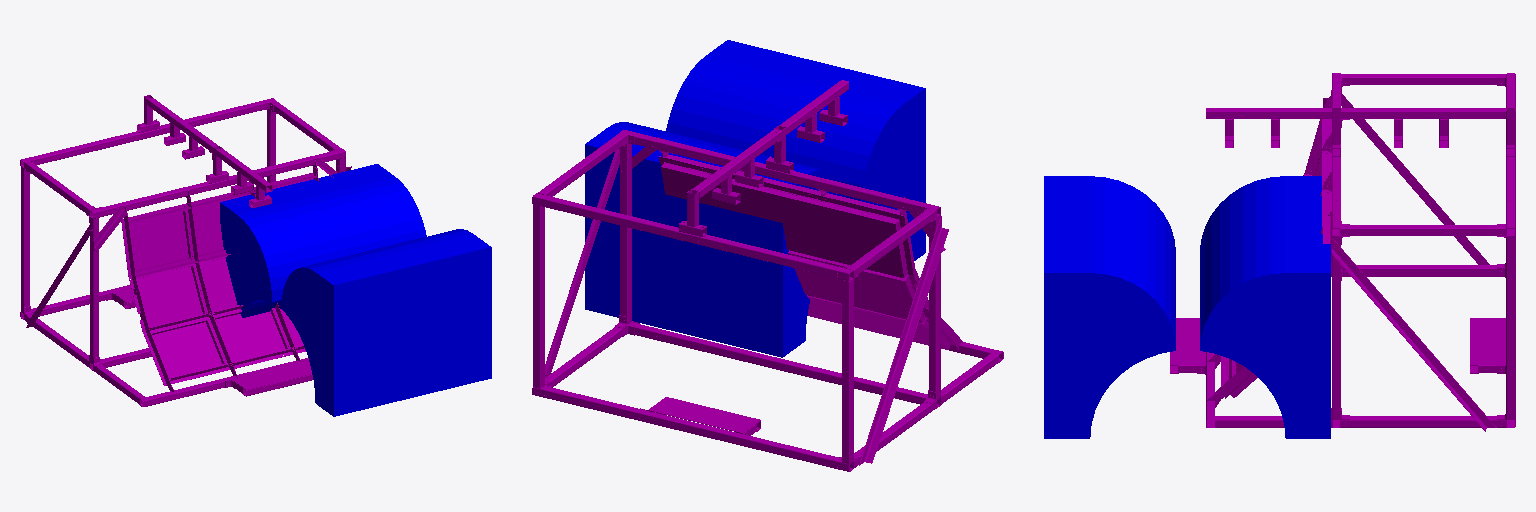
URDF robot description (tubestraight0304):
<?xml version="1.0" encoding="utf-8"?>
<!-- This URDF was automatically created by SolidWorks to URDF Exporter! Originally created by [author] ([email redacted]) 
     Commit Version: 1.6.0-1-g15f4949  Build Version: 1.6.7594.29634
     For more information, please see http://wiki.ros.org/sw_urdf_exporter -->
<robot
  name="tubestraight0304">
  <link
    name="base_link">
    <inertial>
      <origin
        xyz="1.25 -0.00098688 0.62711"
        rpy="0 0 0" />
      <mass
        value="106.93" />
      <inertia
        ixx="78.399"
        ixy="3.0113E-13"
        ixz="-7.3168E-14"
        iyy="69.372"
        iyz="-0.066809"
        izz="120.41" />
    </inertial>
    <visual>
      <origin
        xyz="0 0 0"
        rpy="0 0 0" />
      <geometry>
        <mesh
          filename="package://tubestraight0304/meshes/base_link.STL" />
      </geometry>
      <material
        name="">
        <color
          rgba="0.7 0 0.7 1" />
      </material>
    </visual>
    <collision>
      <origin
        xyz="0 0 0"
        rpy="0 0 0" />
      <geometry>
        <mesh
          filename="package://tubestraight0304/meshes/base_link.STL" />
      </geometry>
    </collision>
  </link>
  <link
    name="Link_wing">
    <inertial>
      <origin
        xyz="1.25 1.7764E-15 0.070408"
        rpy="0 0 0" />
      <mass
        value="14174" />
      <inertia
        ixx="9617.8"
        ixy="1062.1"
        ixz="-4.0963E-12"
        iyy="13416"
        iyz="-4.5475E-13"
        izz="12598" />
    </inertial>
    <visual>
      <origin
        xyz="0 0 0"
        rpy="0 0 0" />
      <geometry>
        <mesh
          filename="package://tubestraight0304/meshes/Link_wing.STL" />
      </geometry>
      <material
        name="">
        <color
          rgba="0 0 1 0.0001" />
      </material>
    </visual>
    <collision>
      <origin
        xyz="0 0 0"
        rpy="0 0 0" />
      <geometry>
        <mesh
          filename="package://tubestraight0304/meshes/Link_wing.STL" />
      </geometry>
    </collision>
  </link>
  <joint
    name="Joint_wing"
    type="continuous">
    <origin
      xyz="0 0 1.0635"
      rpy="0 0 0" />
    <parent
      link="base_link" />
    <child
      link="Link_wing" />
    <axis
      xyz="1 0 0" />
    <limit
      lower="0"
      upper="1E-06"
      effort="0"
      velocity="0" />
  </joint>
  <gazebo reference="base_link">
    <material>Gazebo/Indigo</material>
  </gazebo>
  <gazebo reference="Link_wing">
    <material>Gazebo/GreyTransparent</material>
  </gazebo>
</robot>

--- What the picture shows (computed from the rendered views, not written in the file) ---
3 views of the same robot in one strip: view 1: azimuth 30°, elevation 25°; view 2: azimuth 150°, elevation 25°; view 3: azimuth 270°, elevation 25° (orthographic).
Model tubestraight0304 with 2 links and 1 joints (1 continuous), rooted at base_link, posed all joints at 0.
Visible links, largest first — view 1: Link_wing, base_link; view 2: base_link, Link_wing; view 3: Link_wing, base_link.
Link boxes in pixels (x1=…): Link_wing: x1=220, y1=164, x2=491, y2=416; base_link: x1=20, y1=95, x2=351, y2=406; base_link: x1=532, y1=80, x2=1003, y2=471; Link_wing: x1=585, y1=40, x2=925, y2=357; Link_wing: x1=1044, y1=176, x2=1330, y2=438; base_link: x1=1170, y1=73, x2=1515, y2=431.
Size in the robot's own frame: 4.6 by 5.13 by 2.9 metres.
2 mesh visuals loaded from 2 distinct referenced files (2 binary STL).